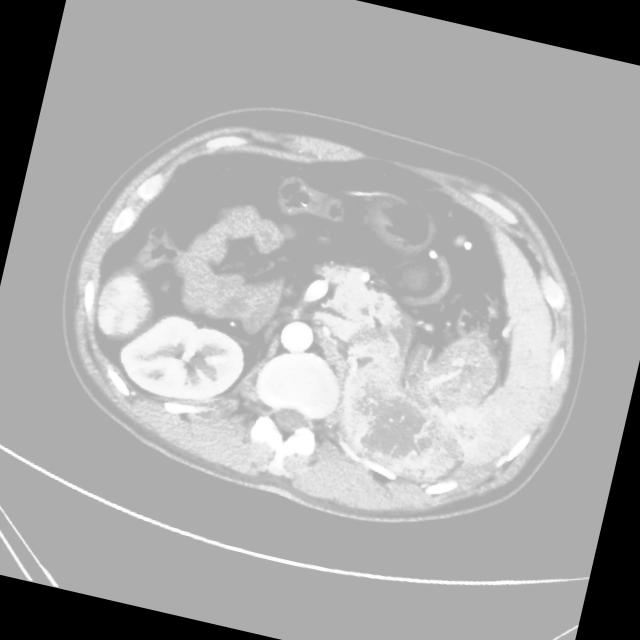TUMOR: (111, 139, 640, 512)
